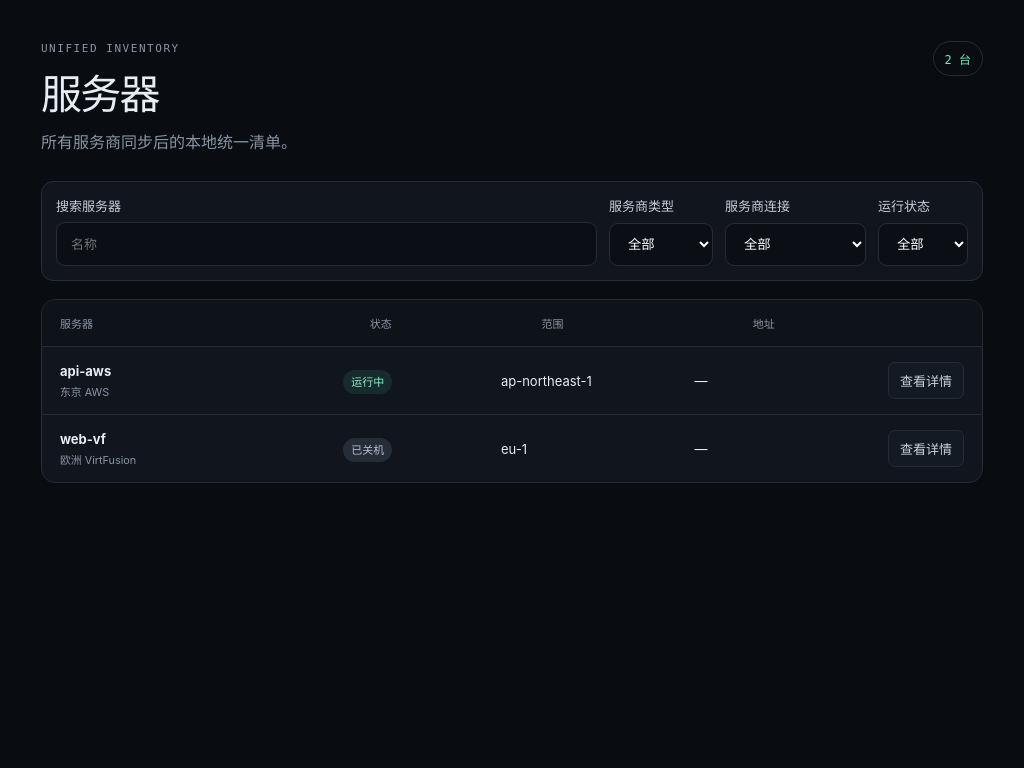
it: filters by provider connection and shows capability and synchronization details
The width and height of the screenshot is (1024, 768).
Expected: the text "api-aws" is shown, left=60, top=363, right=111, bottom=379
Select "aws" in the dropdown labelled "服务商类型" at (661, 245), box left=609, top=223, right=713, bottom=266
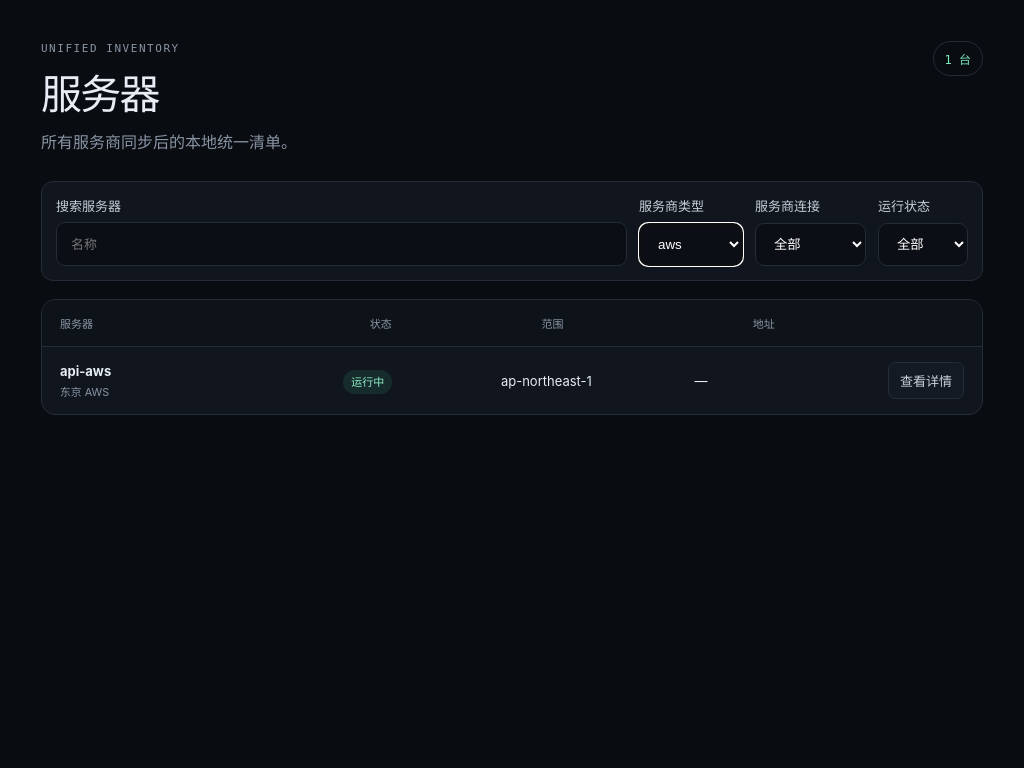
Expected: the text "api-aws" is shown, left=60, top=363, right=111, bottom=379
Expected: the text "web-vf" is gone
Select "东京 AWS" in the dropdown labelled "服务商连接" at (810, 245), box left=755, top=223, right=866, bottom=266
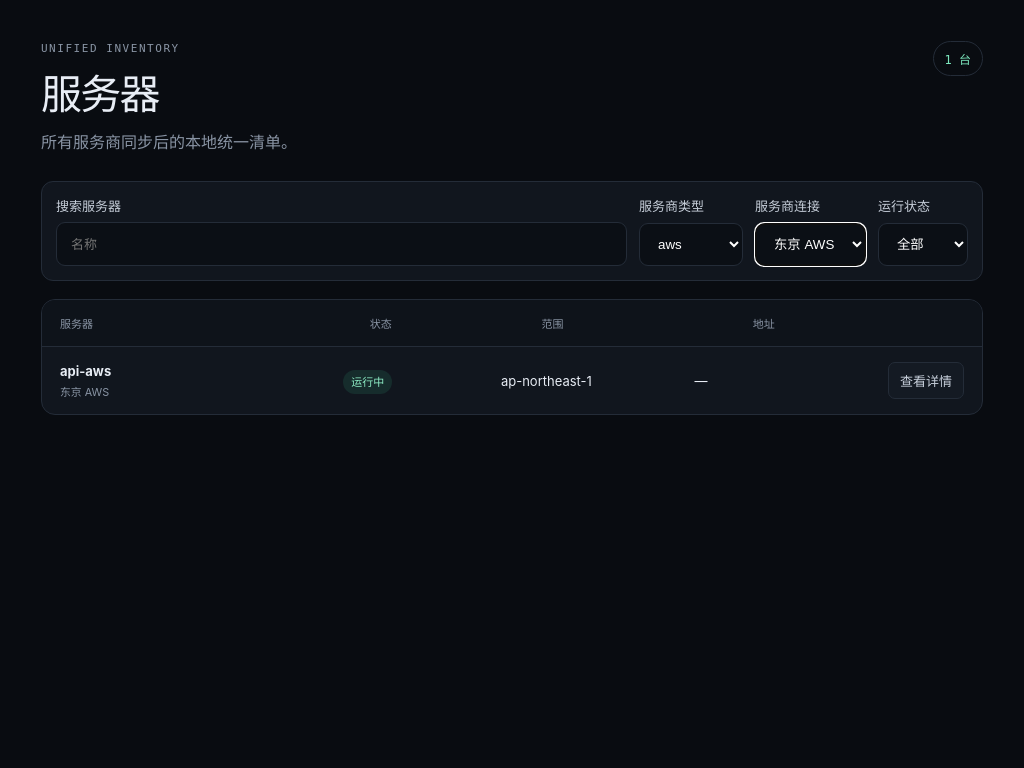
Click the button with aria-label "查看 api-aws".
click(926, 381)  # box left=888, top=362, right=964, bottom=399
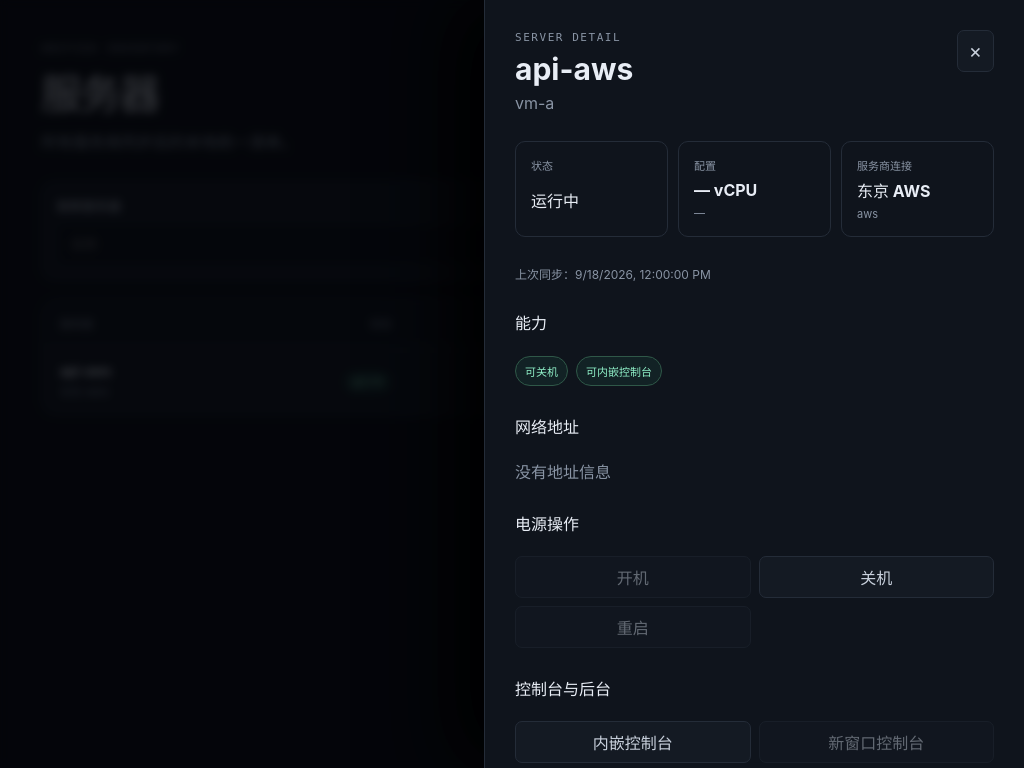
Expected: the text "东京 AWS" is shown, left=857, top=181, right=931, bottom=201
Expected: the text "可内嵌控制台" is shown, left=576, top=356, right=662, bottom=386
Expected: the text "上次同步：9/18/2026, 12:00:00 PM" is shown, left=515, top=267, right=711, bottom=282
